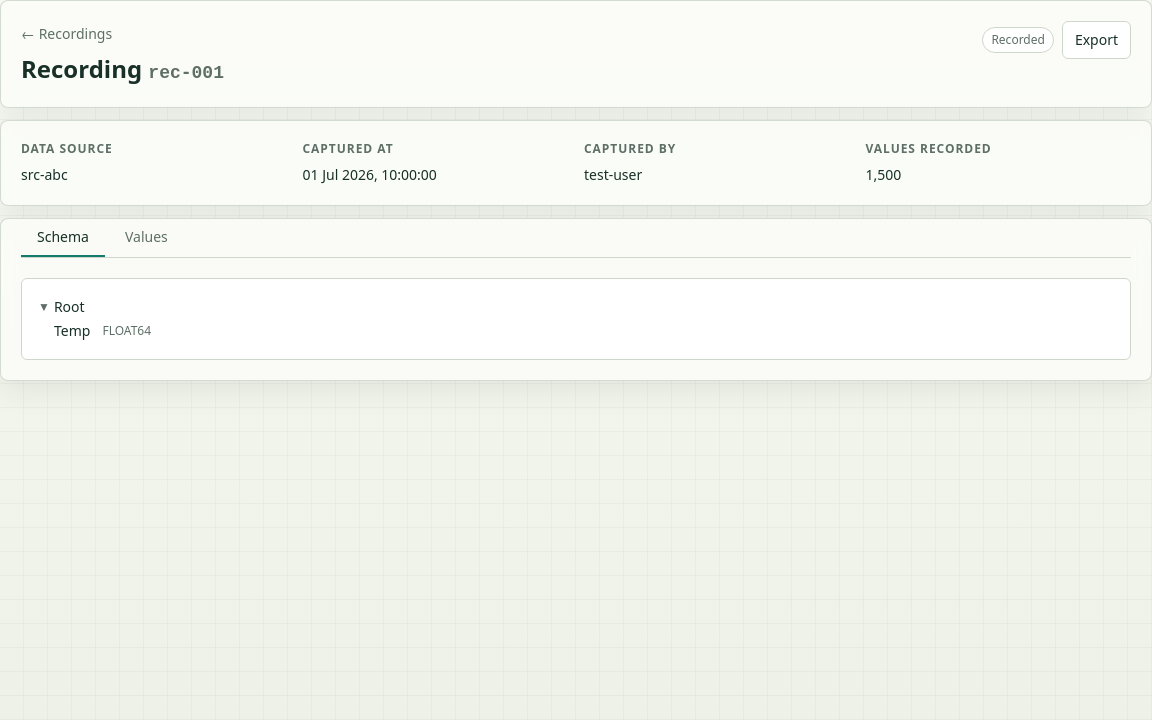
Test: RecordingDetailPage — schema tab (UI-123) › collapses folder nodes when toggle clicked
expect the text "Root" is shown: met, box left=54, top=297, right=85, bottom=317
expect the text "Temp" is shown: met, box left=54, top=321, right=90, bottom=341
Step 1. Click the button "▼" → click(44, 307), box left=38, top=299, right=50, bottom=315
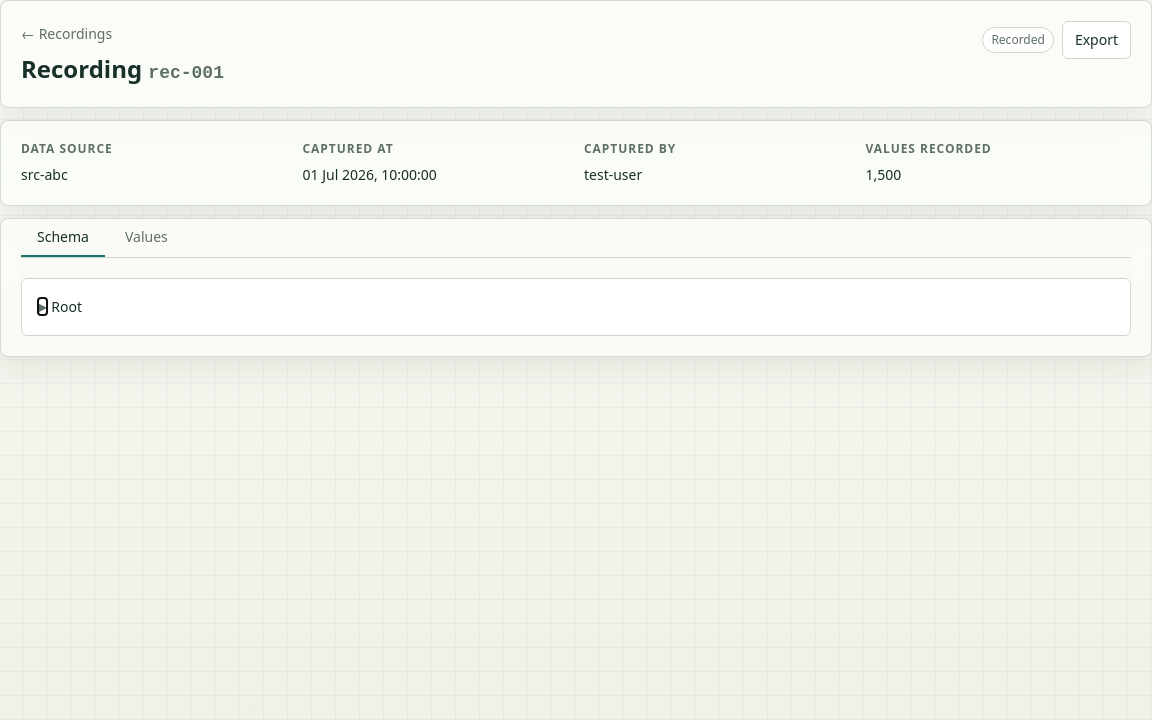
expect the text "Temp" is gone: met
Step 2. Click the button "▶" → click(43, 307), box left=38, top=299, right=47, bottom=315
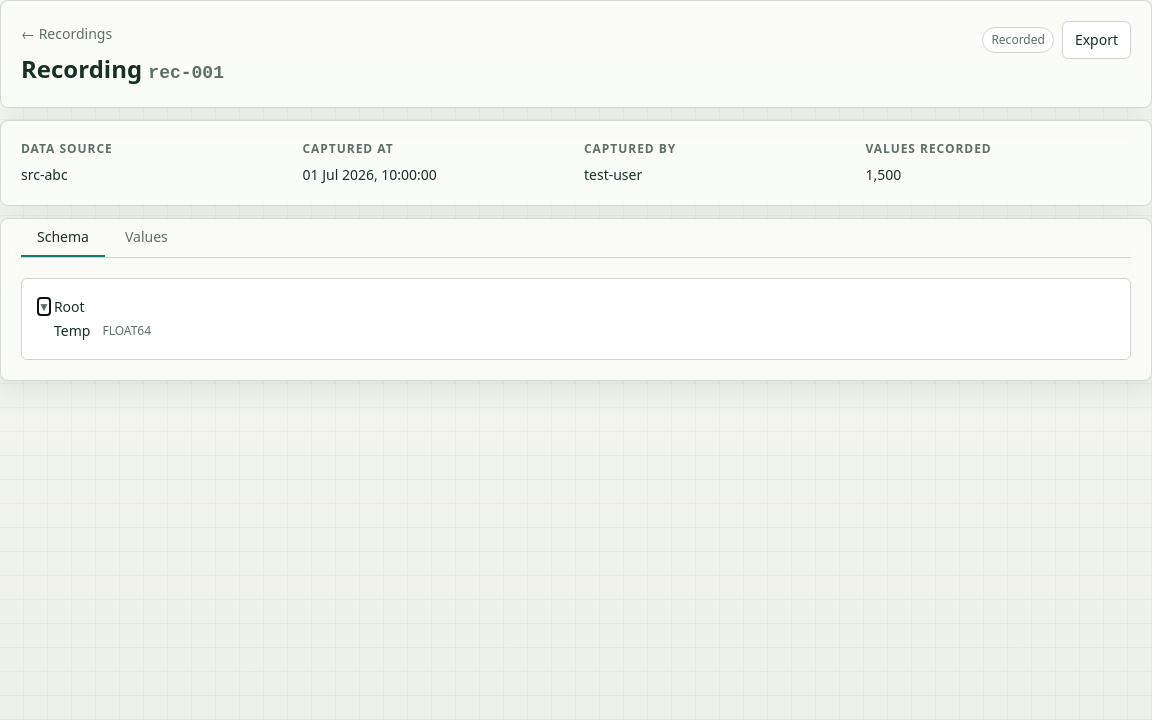
expect the text "Temp" is shown: met, box left=54, top=321, right=90, bottom=341
